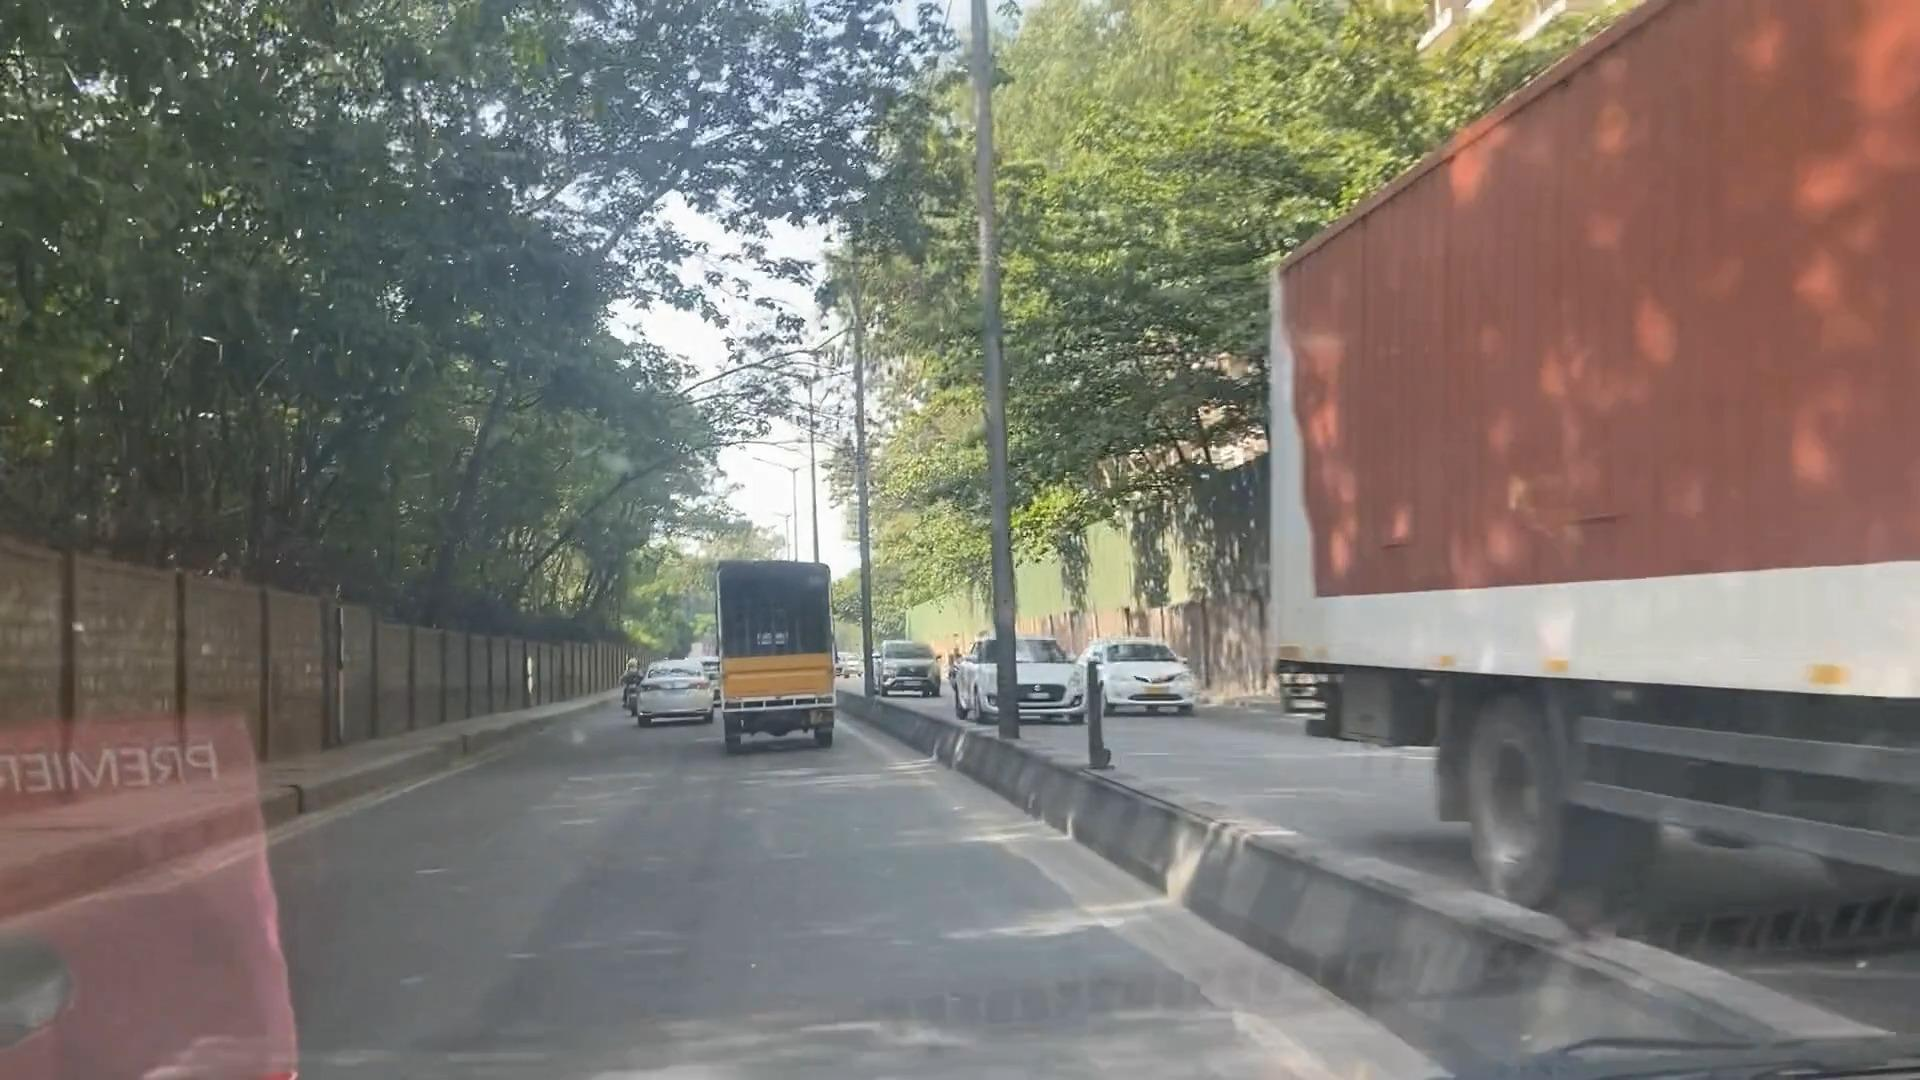HMV: (1247, 0, 1920, 927), (698, 547, 844, 761)
